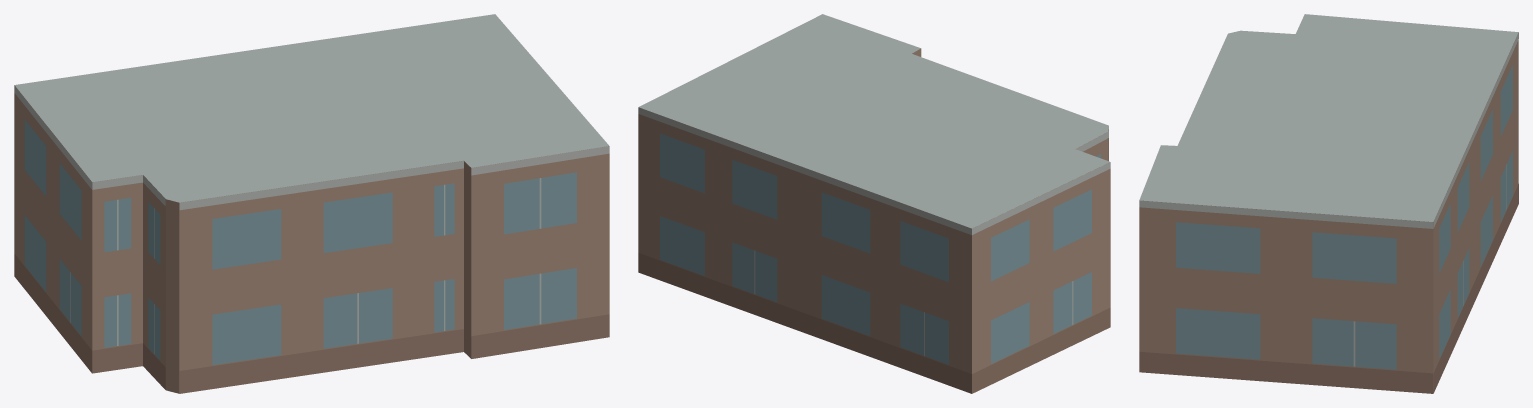
The model's file is survey-upis-32878081.glb.
The picture shows the model from 3 angles, left to right: view 1: azimuth 30°, elevation 25°; view 2: azimuth 150°, elevation 25°; view 3: azimuth 270°, elevation 25°; orthographic projection. The views are drawn at different scales.
Visible parts, largest first — view 1: survey-upis-32878081.tmp; view 2: survey-upis-32878081.tmp; view 3: survey-upis-32878081.tmp.
Boxes of the visible parts, left/top/right/bottom form: survey-upis-32878081.tmp: left=14, top=14, right=609, bottom=393; survey-upis-32878081.tmp: left=638, top=14, right=1110, bottom=393; survey-upis-32878081.tmp: left=1139, top=14, right=1518, bottom=393.
Size of the model in its own units: 15.86 by 6.1 by 12.22.
